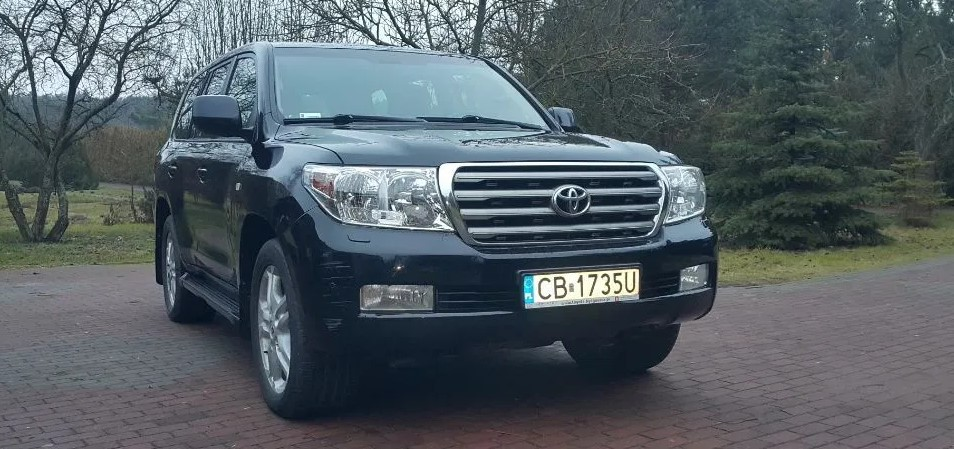number_plate: (503, 259, 656, 312)
